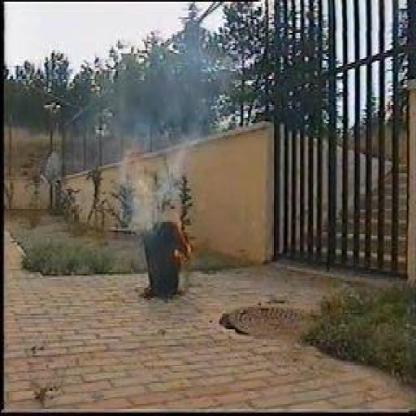-: (128, 141, 176, 218)
foggia-v2-map80-epoch100 - v1 4323: (177, 218, 192, 262)
